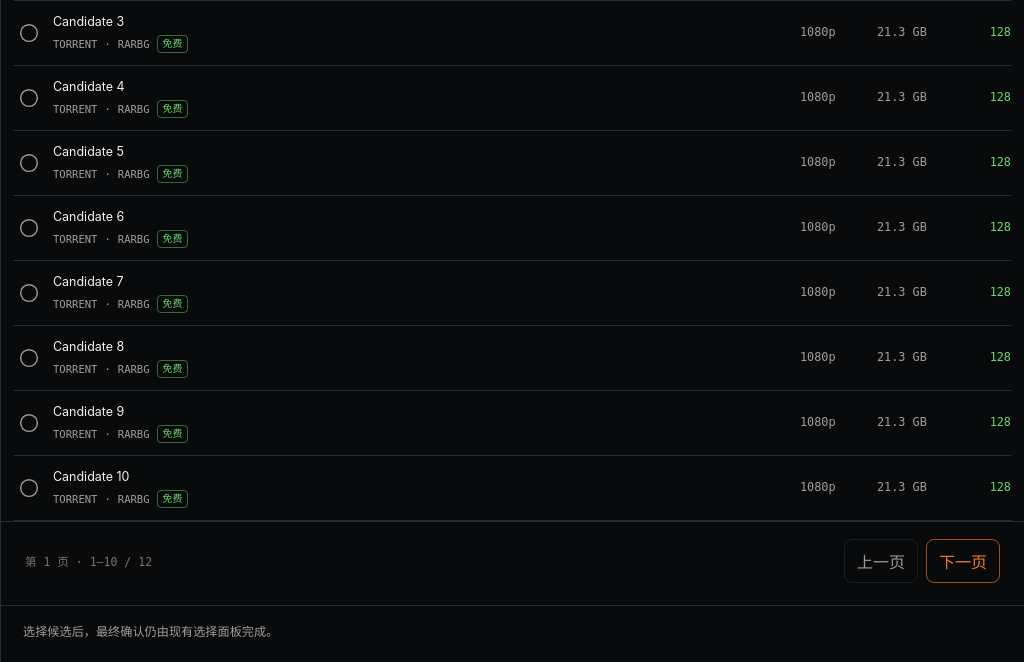
Scenario: DiscoveryInspector › paginates the cached candidate snapshot without losing candidate order
This screenshot has width=1024, height=662.
(page scrolled)
Expected: the text "Candidate 10" is shown, [53, 469, 130, 484]
Expected: the text "Candidate 11" is not shown
Click the button "下一页".
click(963, 561)  # box [926, 539, 1000, 583]
(page scrolled)
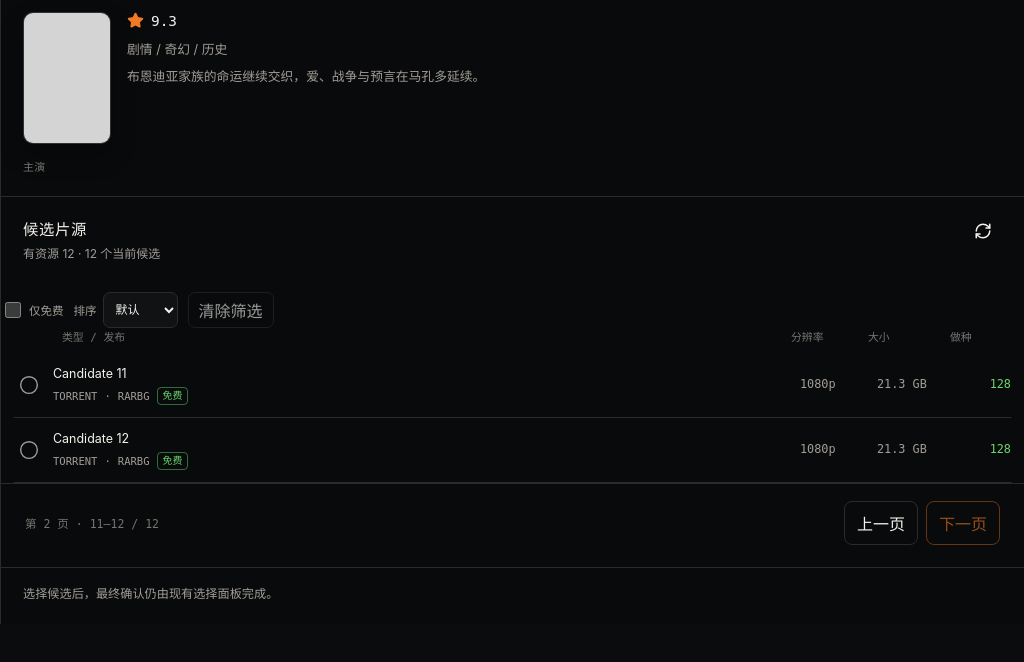
Expected: the text "Candidate 11" is shown, [53, 366, 127, 381]
Expected: the text "Candidate 12" is shown, [53, 431, 129, 446]
Expected: the text "第 2 页 · 11–12 / 12" is shown, [25, 515, 159, 531]
